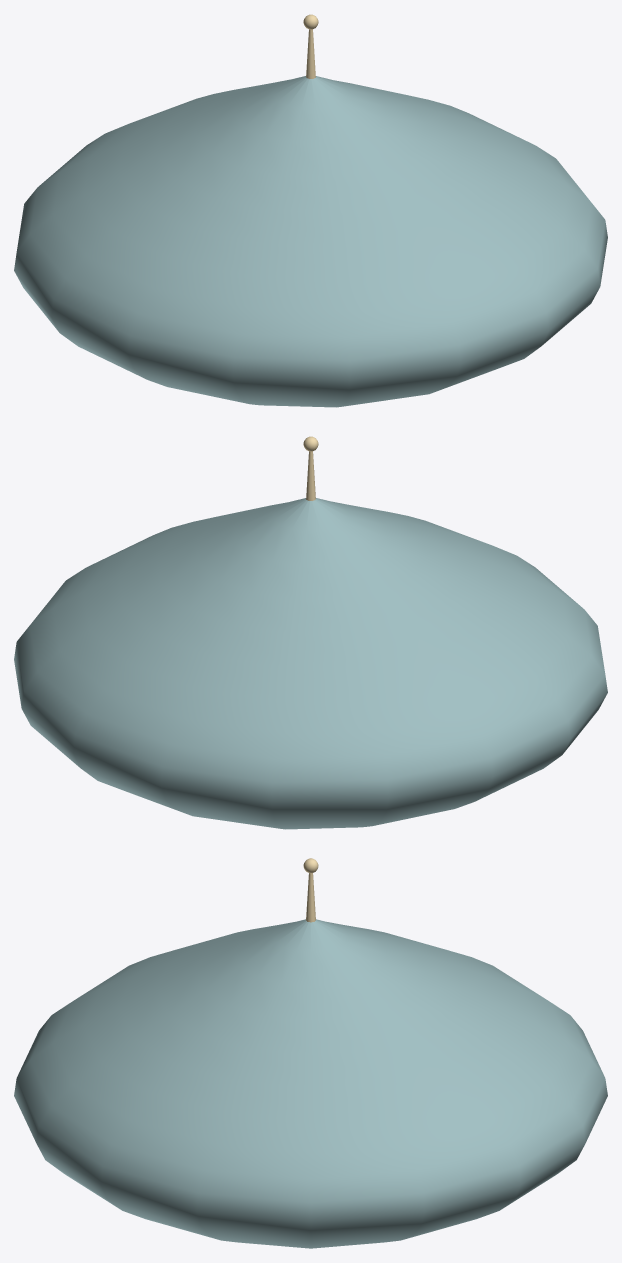
File: prop-dome.glb
The picture shows the model from 3 angles, top to bottom: view 1: azimuth 30°, elevation 25°; view 2: azimuth 150°, elevation 25°; view 3: azimuth 270°, elevation 25°; orthographic projection.
Parts seen in each view (by area): view 1: dome; view 2: dome; view 3: dome.
Part boxes in pixels (x1,y1,x2,y2): dome: (14,14,607,407); dome: (14,436,607,829); dome: (14,858,607,1248).
Size of the model in its own units: 5.91 by 4.16 by 5.91.
